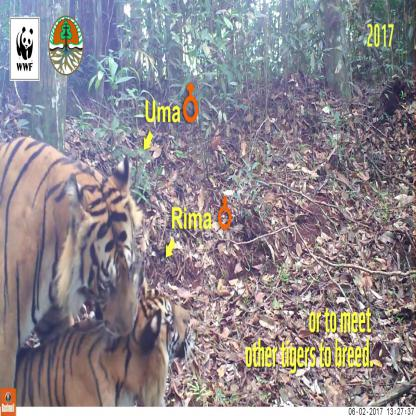Tiger: (0, 99, 144, 386), (18, 278, 200, 416)
